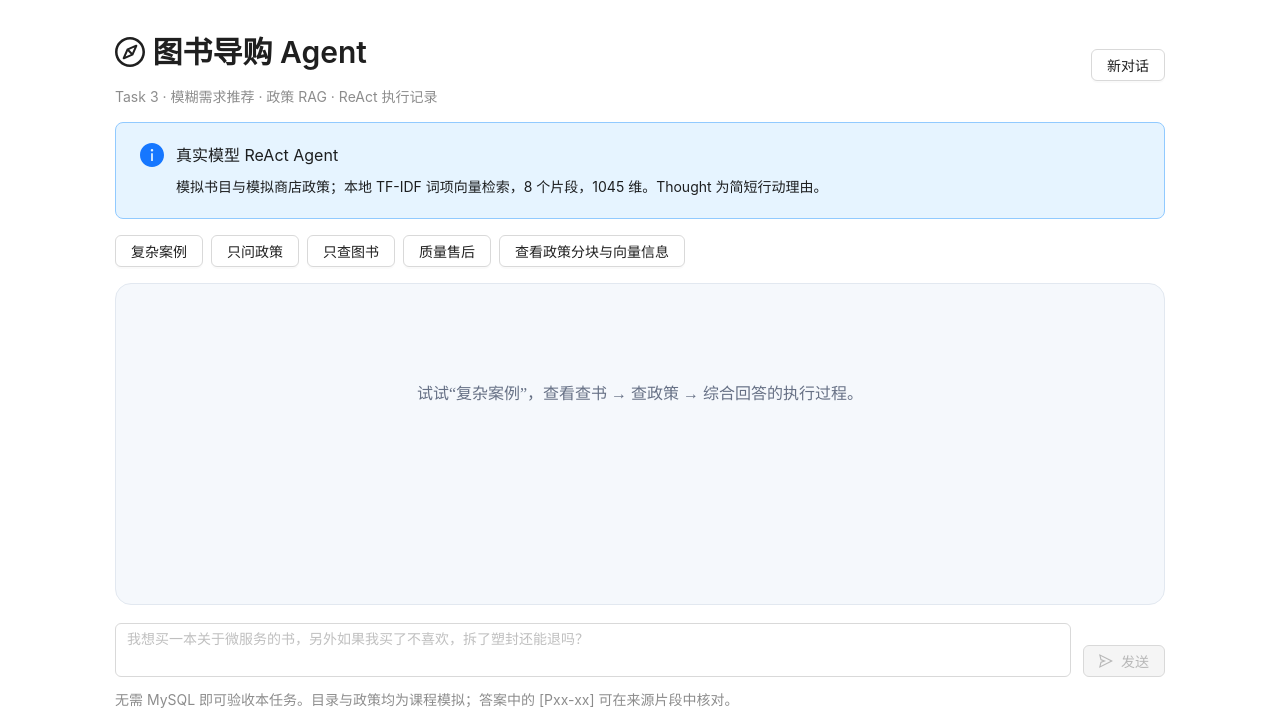
it: 可以检查分块及向量元信息
Expected: the text "真实模型 ReAct Agent" is shown, [176,145,338,165]
Click the button "查看政策分块与向量信息" at point(592, 251), box [499,235,685,267]
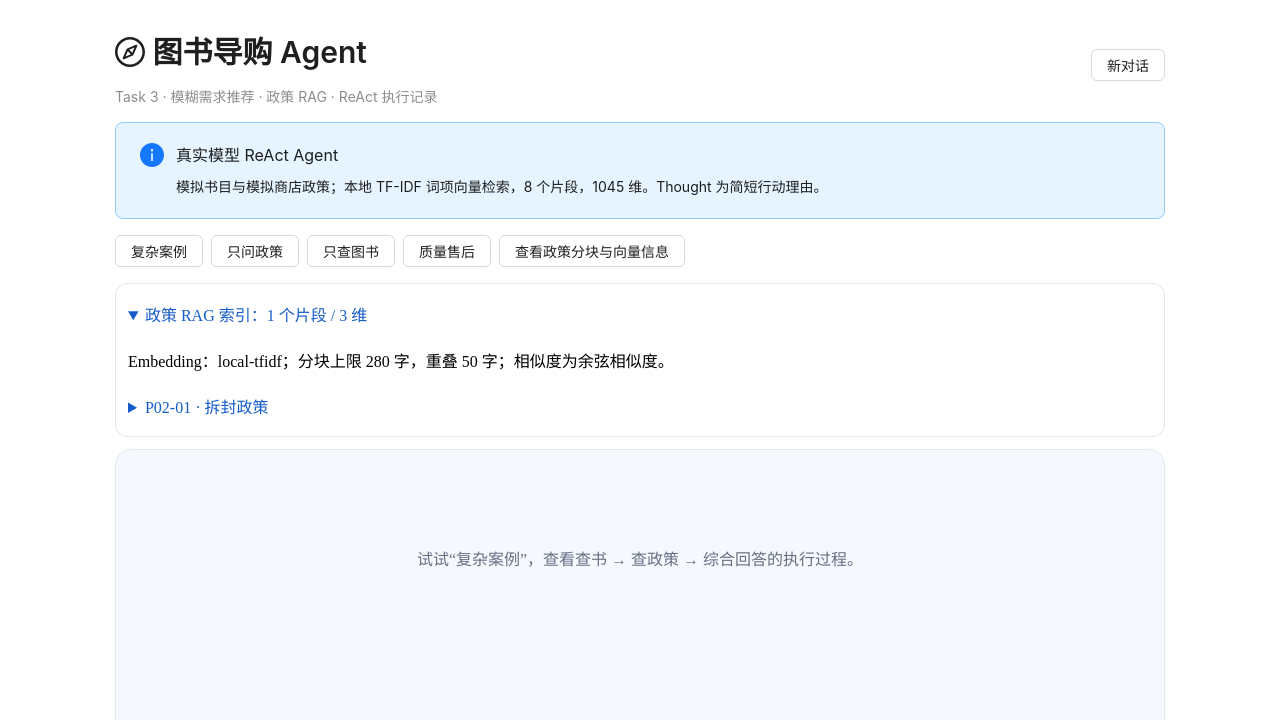
Result: the heading "政策 RAG 索引：1 个片段 / 3 维" is shown at [145,307,367,324]
